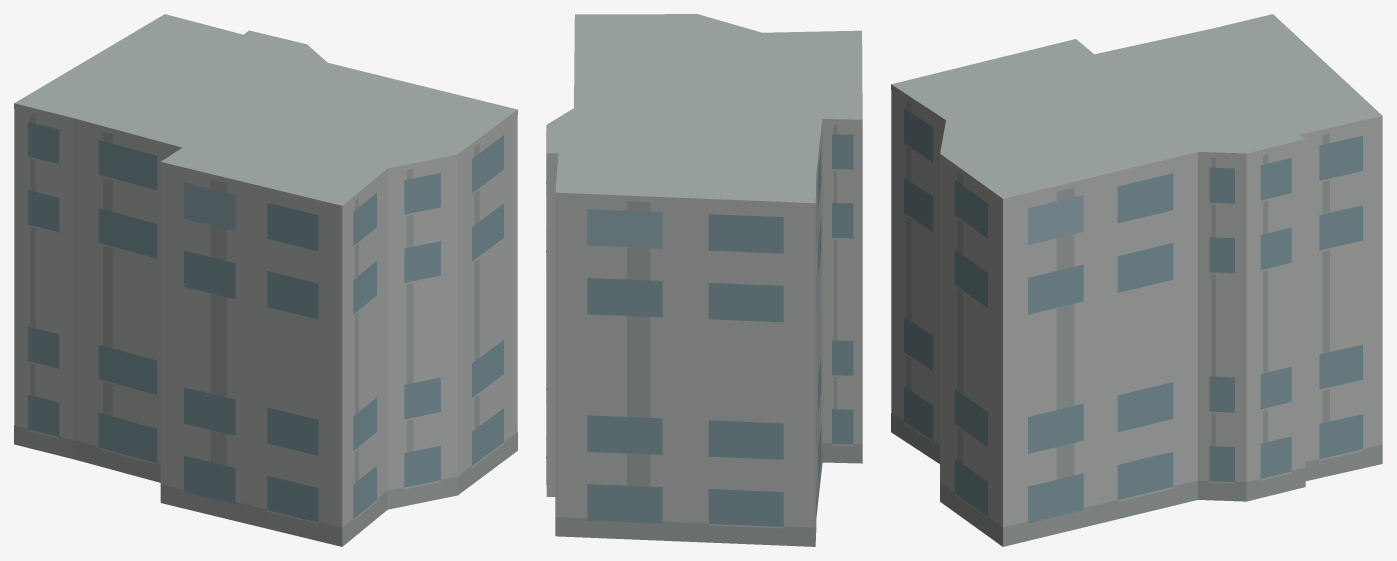
The model's file is survey-upis-32467264.glb.
The picture shows the model from 3 angles, left to right: view 1: azimuth 30°, elevation 25°; view 2: azimuth 150°, elevation 25°; view 3: azimuth 270°, elevation 25°; orthographic projection. The views are drawn at different scales.
Parts seen in each view (by area): view 1: survey-upis-32467264.tmp; view 2: survey-upis-32467264.tmp; view 3: survey-upis-32467264.tmp.
Part boxes in pixels (x1=…): survey-upis-32467264.tmp: x1=14, y1=14, x2=517, y2=546; survey-upis-32467264.tmp: x1=546, y1=14, x2=862, y2=546; survey-upis-32467264.tmp: x1=891, y1=14, x2=1382, y2=546.
Bounding box in the file's own units: 16.99 × 14.9 × 19.08.
